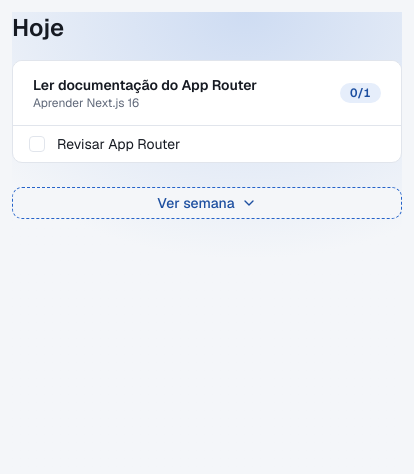
Scenario: FluidDayWeek › expands the week section when the toggle button is clicked
Click the button "Ver semana".
click(207, 203)  # box [12,187,402,219]
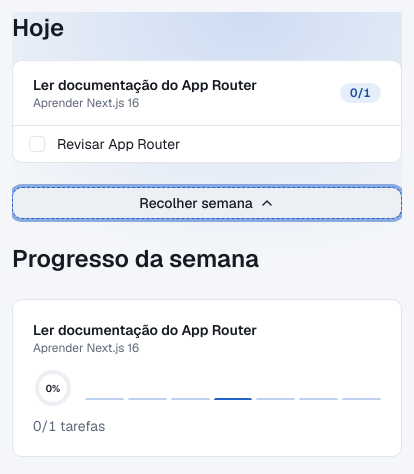
Expected: the link "Ler documentação do App Router" below "Progresso da semana" is shown, [33,321,257,339]
Expected: the button "Recolher semana" is expanded, [12,187,402,219]
